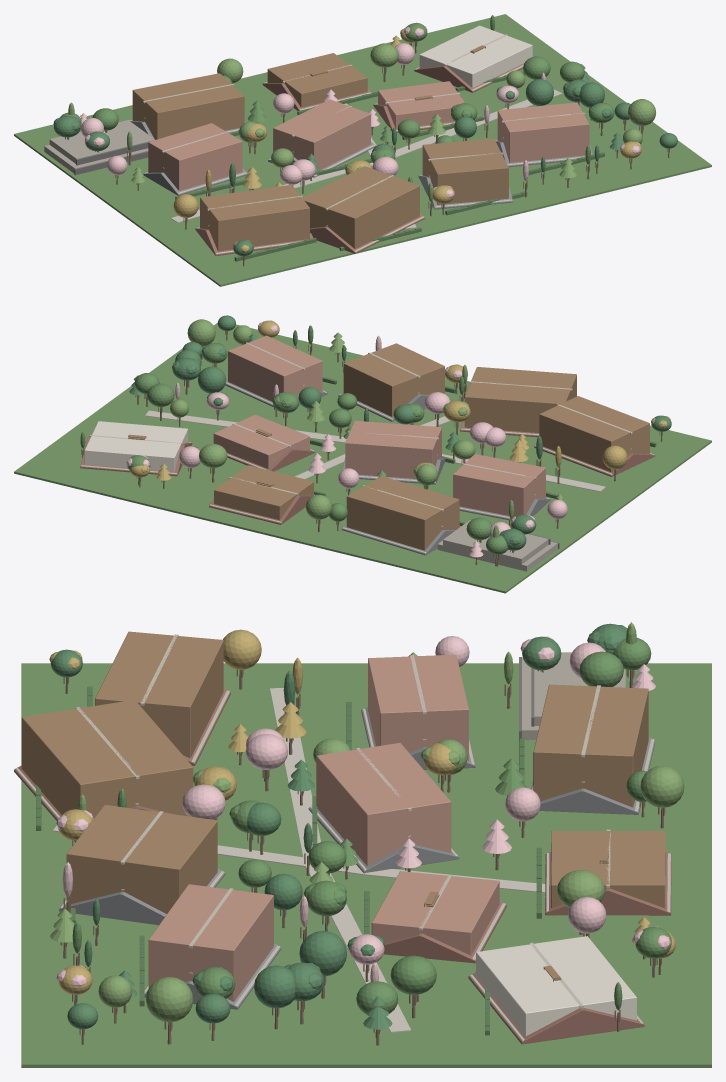
The model's file is DISTRICT_E_FOREST_TOWN.glb.
3 views of the same model, one above another, from view 1: azimuth 30°, elevation 25°; view 2: azimuth 150°, elevation 25°; view 3: azimuth 270°, elevation 25° (orthographic). The views are drawn at different scales.
Visible parts, largest first — view 1: E_Ground, Mass.001, Mass, Mass.008, Mass.003, Mass.005, Mass.002, Mass.004, Mass.007, Mass.009, Mass.006, Terrace_1 (+16 smaller); view 2: E_Ground, Mass.008, Mass.001, Mass, Mass.002, Mass.005, Mass.004, Mass.003, Mass.007, Mass.009, Mass.006, Terrace_1 (+16 smaller); view 3: E_Ground, Mass.001, Mass.005, Mass.002, Mass.008, Mass, Mass.007, Mass.003, Mass.004, Mass.006, Mass.009, Roof_Pitched.007 (+39 smaller).
Part boxes in pixels (left/top/right/bottom): E_Ground: left=14, top=14, right=711, bottom=286; Mass.001: left=300, top=166, right=419, bottom=248; Mass: left=200, top=184, right=309, bottom=251; Mass.008: left=132, top=73, right=244, bottom=139; Mass.003: left=497, top=102, right=589, bottom=162; Mass.005: left=273, top=99, right=370, bottom=170; Mass.002: left=422, top=138, right=508, bottom=204; Mass.004: left=148, top=123, right=242, bottom=190; Mass.007: left=419, top=25, right=532, bottom=87; Mass.009: left=267, top=53, right=367, bottom=107; Mass.006: left=378, top=81, right=464, bottom=128; Terrace_1: left=49, top=120, right=154, bottom=163; E_Ground: left=14, top=323, right=711, bottom=593; Mass.008: left=346, top=476, right=459, bottom=550; Mass.001: left=464, top=367, right=576, bottom=432; Mass: left=539, top=396, right=649, bottom=472; Mass.002: left=343, top=343, right=444, bottom=416; Mass.005: left=345, top=420, right=441, bottom=478; Mass.004: left=453, top=454, right=545, bottom=516; Mass.003: left=228, top=335, right=322, bottom=401; Mass.007: left=84, top=421, right=187, bottom=471; Mass.009: left=214, top=465, right=313, bottom=519; Mass.006: left=213, top=414, right=309, bottom=468; Terrace_1: left=443, top=520, right=548, bottom=564; E_Ground: left=21, top=663, right=711, bottom=1067; Mass.001: left=21, top=699, right=193, bottom=818; Mass.005: left=316, top=743, right=451, bottom=865; Mass.002: left=66, top=805, right=217, bottom=913; Mass.008: left=533, top=684, right=648, bottom=807; Mass: left=95, top=631, right=223, bottom=758; Mass.007: left=476, top=936, right=636, bottom=1036; Mass.003: left=148, top=884, right=273, bottom=1001; Mass.004: left=368, top=654, right=468, bottom=760; Mass.006: left=371, top=871, right=499, bottom=955; Mass.009: left=551, top=831, right=665, bottom=908; Roof_Pitched.007: left=468, top=944, right=644, bottom=1044.
Size of the model in its own units: 110 by 9.16 by 80.85.
